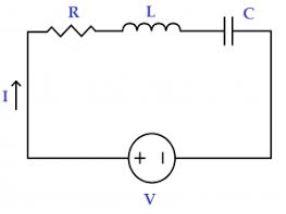inductor: (106, 16, 185, 41)
